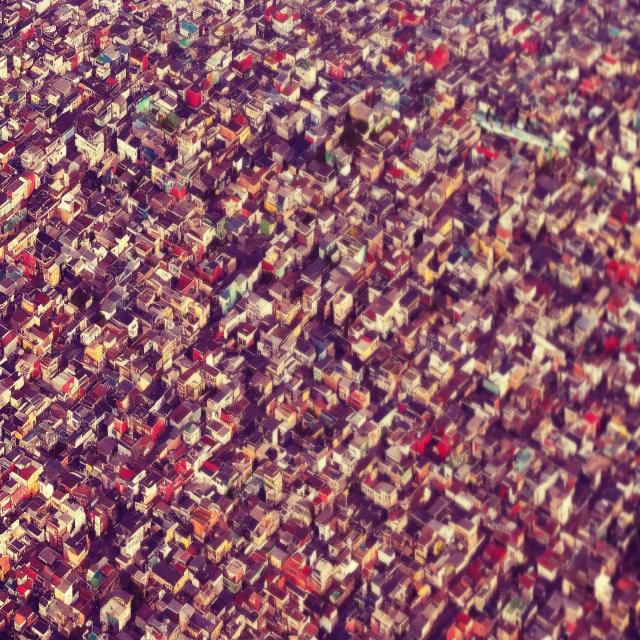airplane: (471, 109, 569, 160)
